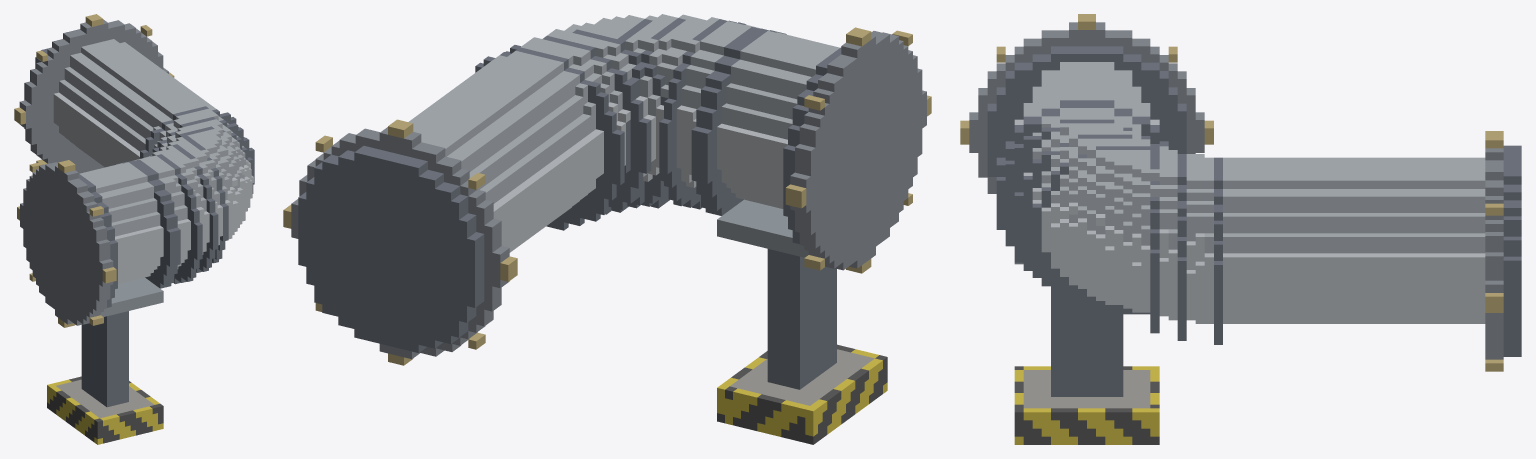
The model's file is pipe_elbow.glb.
3 views of the same model, side by side, from view 1: azimuth 30°, elevation 25°; view 2: azimuth 150°, elevation 25°; view 3: azimuth 270°, elevation 25° (orthographic). The views are drawn at different scales.
Parts seen in each view (by area): view 1: pipe_elbow; view 2: pipe_elbow; view 3: pipe_elbow.
Boxes of the visible parts, left/top/right/bottom form: pipe_elbow: left=14, top=14, right=254, bottom=444; pipe_elbow: left=283, top=14, right=931, bottom=444; pipe_elbow: left=960, top=14, right=1521, bottom=444.
Bounding box in the file's own units: 1.44 × 1.44 × 1.94.
